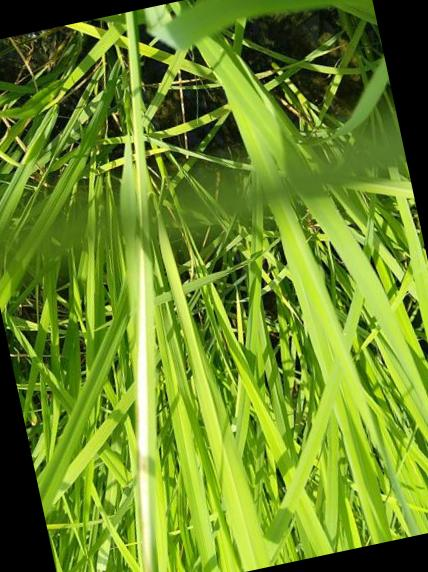Leaf Blight: (126, 238, 155, 572)
